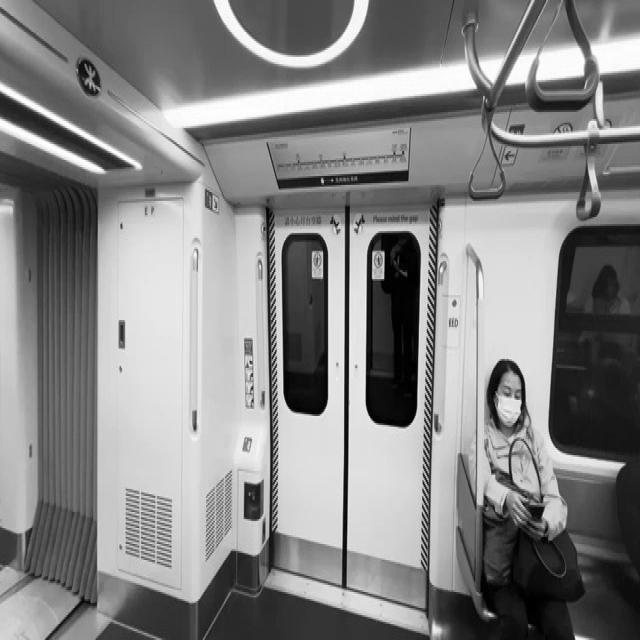bus-door: (262, 205, 440, 634)
